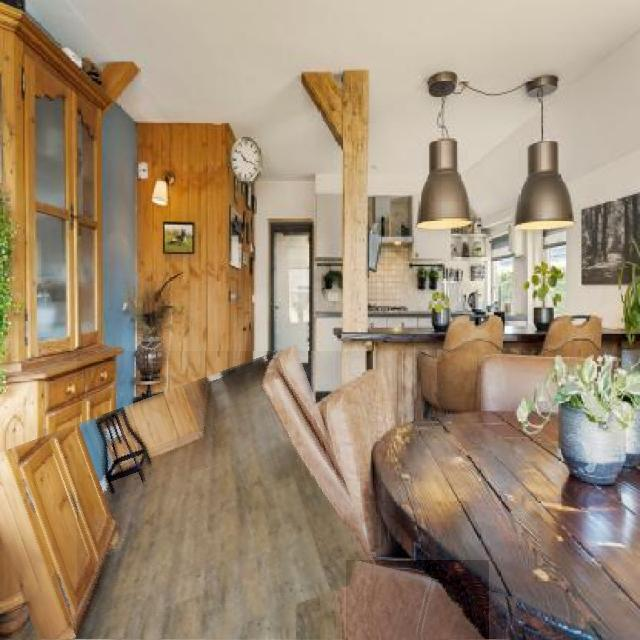floor: (78, 351, 378, 640), (346, 560, 489, 640)
